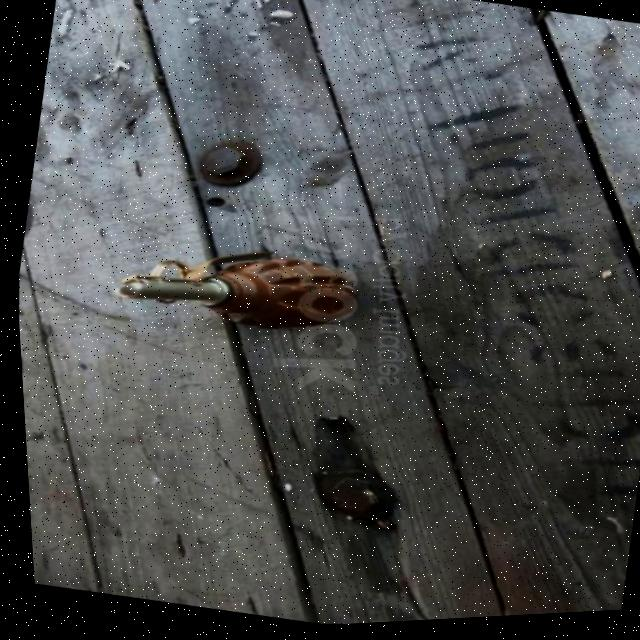grenade: (85, 208, 366, 374)
